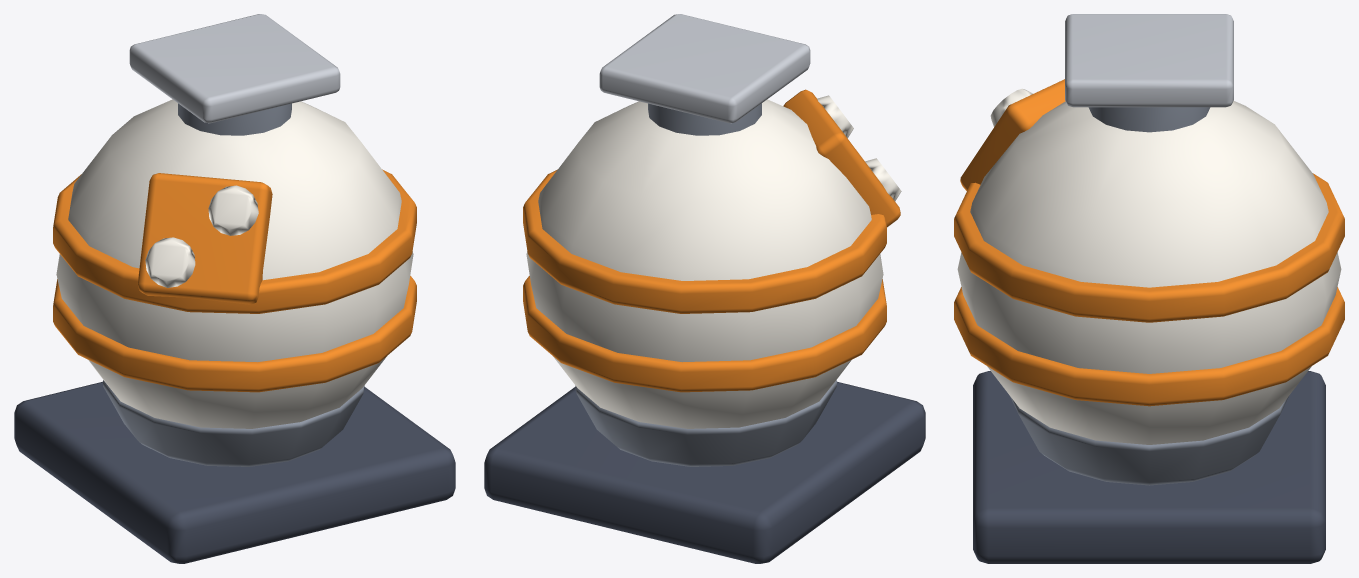
File: Tank_OxygenSpare2.fbx
The picture shows the model from 3 angles, left to right: view 1: azimuth 30°, elevation 25°; view 2: azimuth 150°, elevation 25°; view 3: azimuth 270°, elevation 25°; orthographic projection. The views are drawn at different scales.
Visible parts, largest first — view 1: Tank_OxygenSpare2.Shell, Tank_OxygenSpare2.Plinth, Tank_OxygenSpare2.Band, Tank_OxygenSpare2.Pad, Tank_OxygenSpare2.Label, Tank_OxygenSpare2.Cradle, Tank_OxygenSpare2.Dot_1, Tank_OxygenSpare2.Dot_2, Tank_OxygenSpare2.Neck; view 2: Tank_OxygenSpare2.Shell, Tank_OxygenSpare2.Plinth, Tank_OxygenSpare2.Band, Tank_OxygenSpare2.Pad, Tank_OxygenSpare2.Cradle, Tank_OxygenSpare2.Label, Tank_OxygenSpare2.Neck, Tank_OxygenSpare2.Dot_1, Tank_OxygenSpare2.Dot_2; view 3: Tank_OxygenSpare2.Shell, Tank_OxygenSpare2.Plinth, Tank_OxygenSpare2.Band, Tank_OxygenSpare2.Pad, Tank_OxygenSpare2.Cradle, Tank_OxygenSpare2.Label, Tank_OxygenSpare2.Neck, Tank_OxygenSpare2.Dot_2.
Part boxes in pixels (x1,y1,x2,y2): Tank_OxygenSpare2.Shell: [56, 99, 413, 428]; Tank_OxygenSpare2.Plinth: [14, 381, 455, 563]; Tank_OxygenSpare2.Band: [53, 169, 416, 392]; Tank_OxygenSpare2.Pad: [129, 14, 340, 123]; Tank_OxygenSpare2.Label: [137, 173, 272, 304]; Tank_OxygenSpare2.Cradle: [103, 380, 364, 466]; Tank_OxygenSpare2.Dot_1: [145, 237, 195, 287]; Tank_OxygenSpare2.Dot_2: [208, 185, 258, 235]; Tank_OxygenSpare2.Neck: [178, 103, 291, 135]; Tank_OxygenSpare2.Shell: [526, 99, 883, 428]; Tank_OxygenSpare2.Plinth: [484, 381, 925, 563]; Tank_OxygenSpare2.Band: [523, 169, 886, 392]; Tank_OxygenSpare2.Pad: [599, 14, 810, 123]; Tank_OxygenSpare2.Cradle: [575, 380, 836, 466]; Tank_OxygenSpare2.Label: [783, 89, 900, 227]; Tank_OxygenSpare2.Neck: [648, 103, 761, 135]; Tank_OxygenSpare2.Dot_1: [865, 158, 901, 201]; Tank_OxygenSpare2.Dot_2: [817, 95, 853, 138]; Tank_OxygenSpare2.Shell: [957, 101, 1341, 444]; Tank_OxygenSpare2.Plinth: [973, 371, 1325, 563]; Tank_OxygenSpare2.Band: [954, 173, 1344, 406]; Tank_OxygenSpare2.Pad: [1065, 14, 1233, 107]; Tank_OxygenSpare2.Cradle: [1010, 396, 1288, 485]; Tank_OxygenSpare2.Label: [960, 79, 1065, 190]; Tank_OxygenSpare2.Neck: [1088, 107, 1210, 132]; Tank_OxygenSpare2.Dot_2: [990, 88, 1033, 126].
Bounding box in the file's own units: 0.5094 × 0.645 × 0.5094.
Materials: 1 (1 with a texture image).
